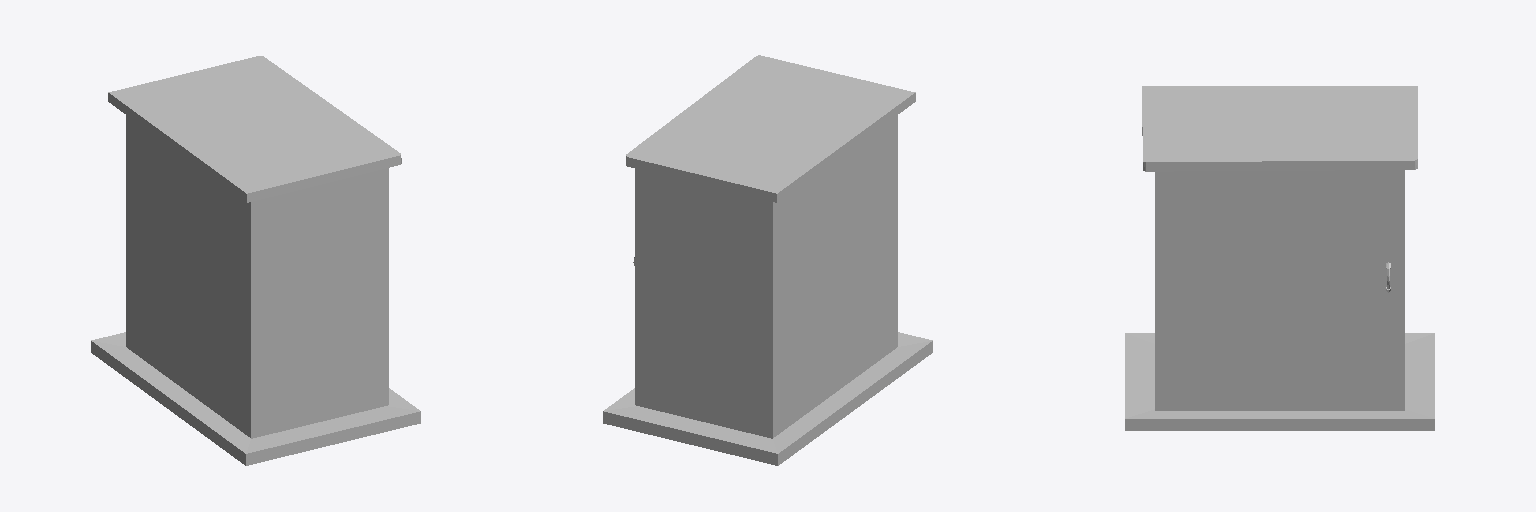
Rendered from electricbox.obj.
3 renders of one model, left to right at view 1: azimuth 30°, elevation 25°; view 2: azimuth 150°, elevation 25°; view 3: azimuth 270°, elevation 25°, orthographic.
Parts seen in each view (by area): view 1: Cube_2_1; view 2: Cube_2_1; view 3: Cube_2_1.
Part boxes in pixels (x1,y1,x2,y2): Cube_2_1: (91,56,420,465); Cube_2_1: (603,55,932,465); Cube_2_1: (1125,86,1434,430).
Size of the model in its own units: 19.96 by 28.76 by 30.6.